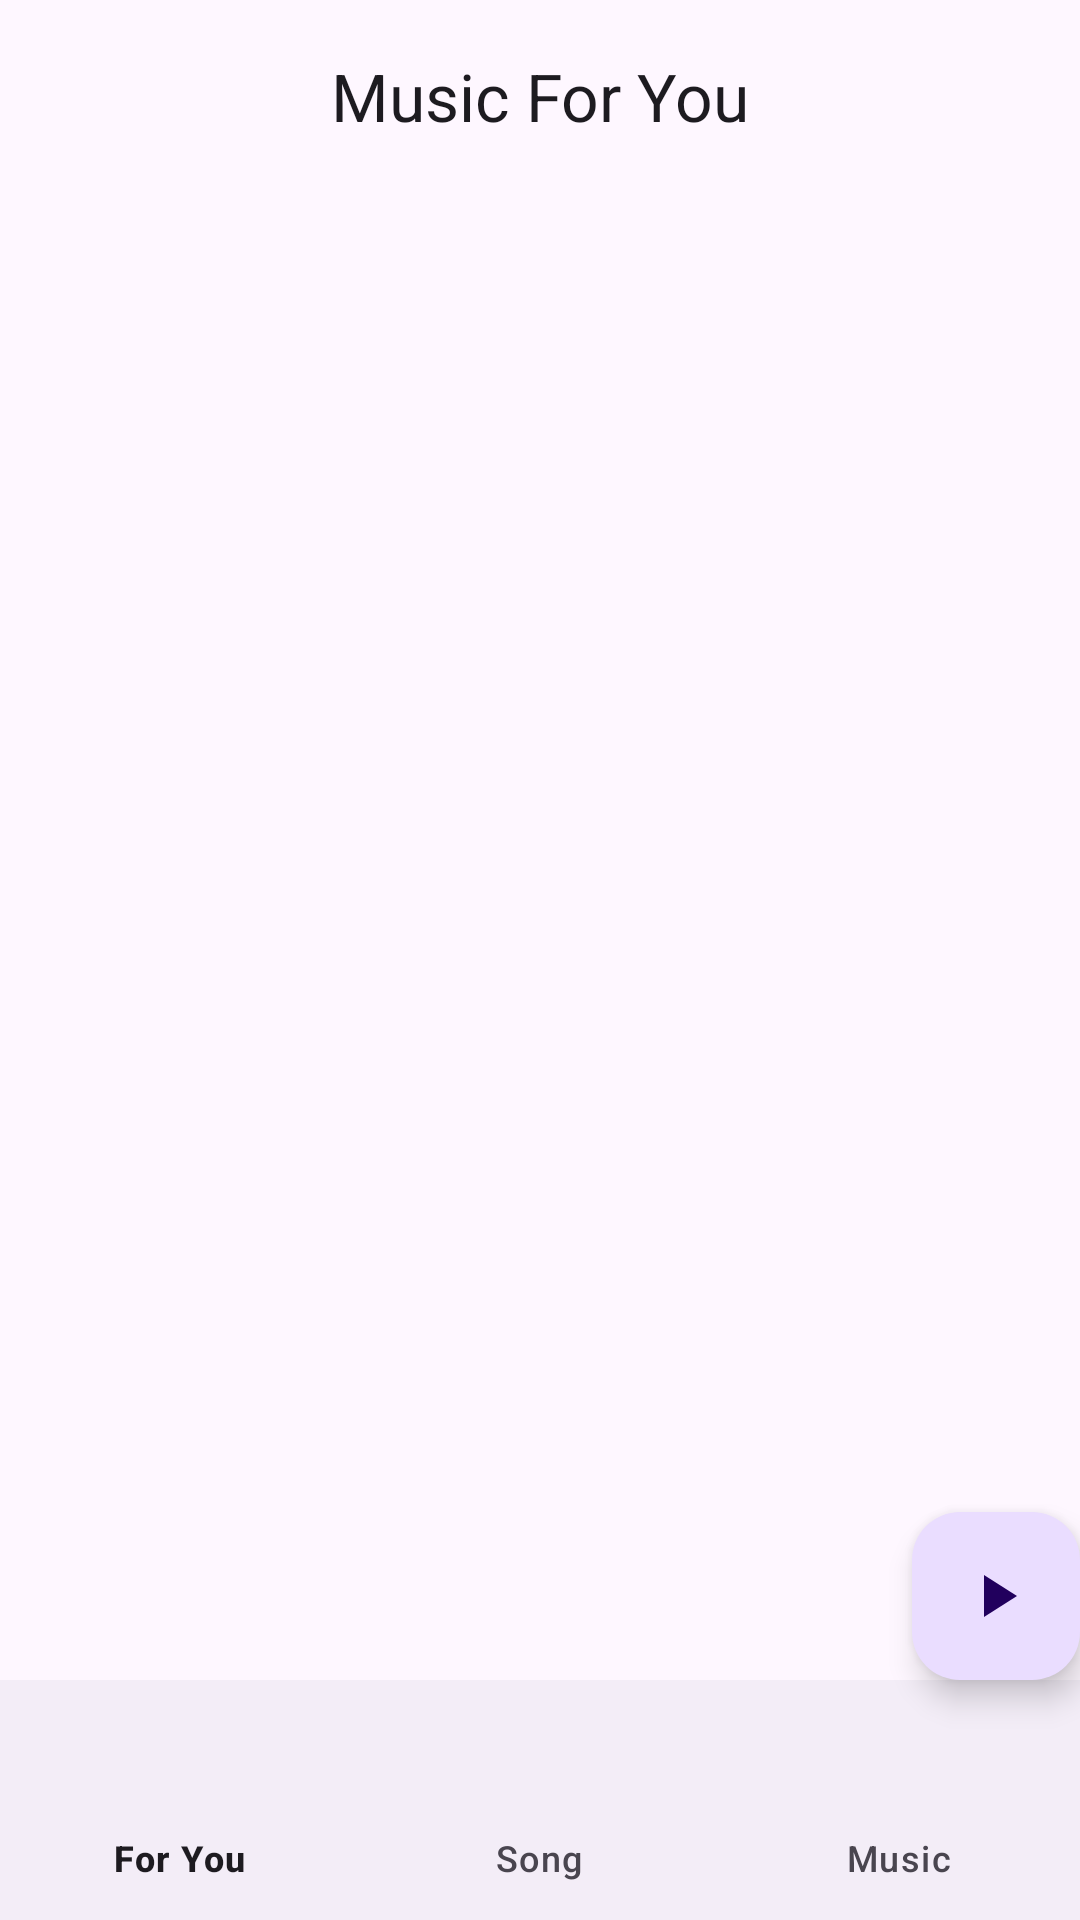

Icons on this 1080px x 1920px Android screen, each with the point to tap as (x=x, y=y):
播放: (x=996, y=1596)
